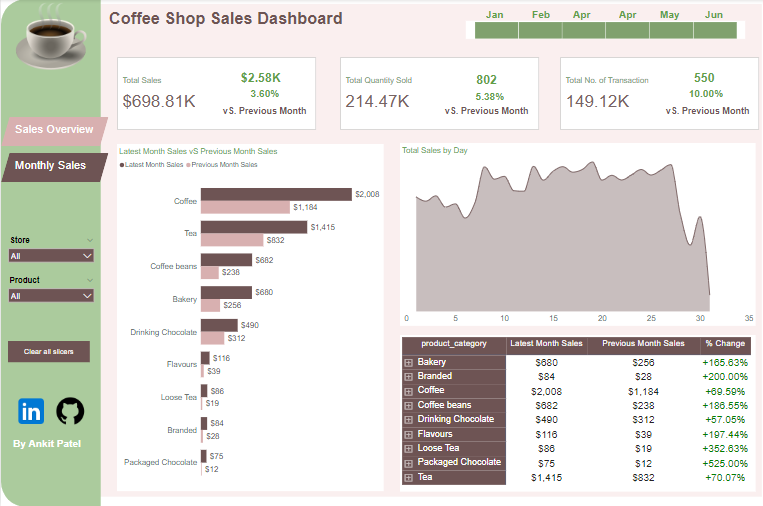

The page's visual inventory and layout, read from the dashboard file:
{"tool":"powerbi","page":{"name":"Page 2","canvas":[1800,1200],"ordinal":1},"visuals":[{"type":"shape","box":[53.4,12.6,1743.5,1163.9],"z":0},{"type":"shape","box":[0,0,235.6,1200],"z":1000},{"type":"image","box":[0,0,236.1,187.1],"z":2000},{"type":"cardVisual","fields":{"Data":["Measures Table.Total Sales"]},"box":[270.2,131.9,480.6,182.2],"z":3000},{"type":"cardVisual","fields":{"Data":["Measures Table.Total Quantity Sold"]},"box":[796.3,131.9,480.6,182.2],"z":4000},{"type":"slicer","fields":{"Values":["Calendar date.Month Name"]},"box":[1097.8,52.6,658.7,41.7],"z":5000},{"type":"actionButton","title":"Jan","box":[1146.8,23.6,76.2,29],"z":6000},{"type":"actionButton","title":"Feb","box":[1253.7,23,75.2,29.2],"z":7000},{"type":"actionButton","title":"Apr","box":[1351.9,23,75.2,29.2],"z":8000},{"type":"actionButton","title":"Jun","box":[1663.9,23.6,74.4,29],"z":9000},{"type":"actionButton","title":"May","box":[1556.9,23.6,74.4,29],"z":10000},{"type":"actionButton","title":"Apr","box":[1458.9,23.6,74.4,29],"z":11000},{"type":"image","box":[26.7,928.3,91.1,91.1],"z":12000},{"type":"image","box":[117.8,928.3,91.1,91.1],"z":13000},{"type":"actionButton","title":"By Ankit Patel","box":[27.2,1037.9,181.5,38.1],"z":14000},{"type":"shape","title":"Sales Overview","box":[0,279.4,254,69],"z":15000},{"type":"actionButton","title":"Sales Overview","box":[32.7,294,208.7,41.7],"z":16000},{"type":"shape","title":"Sales Overview","box":[0,362.9,254,69],"z":17000},{"type":"actionButton","title":"Monthly Sales","box":[32.7,377.4,208.7,41.7],"z":19000},{"type":"slicer","fields":{"Values":["Transactions.store_location"]},"box":[6.3,556,223,86.4],"z":21000},{"type":"slicer","fields":{"Values":["Transactions.product_category"]},"box":[6.3,650.3,223,86.4],"z":22000},{"type":"actionButton","box":[15.7,808.9,193.2,50.3],"z":23000},{"type":"cardVisual","fields":{"Data":["Measures Table.Total No. of Transaction"]},"box":[1316.2,131.9,480.6,182.2],"z":24000},{"type":"card","fields":{"Values":["Measures Table.% Previous Month Sales"]},"box":[551.6,205,141.5,34.5],"z":25000},{"type":"actionButton","title":"Coffee Shop Sales Dashboard","box":[254.7,24.6,649.1,55.2],"z":26000},{"type":"actionButton","title":"vS. Previous Month","box":[509.9,252.2,225,27.2],"z":27000},{"type":"card","fields":{"Values":["Measures Table.Previous Month Sales"]},"box":[510.5,166.5,207.3,39.3],"z":28000},{"type":"card","fields":{"Values":["Measures Table.% Previous Total Transaction"]},"box":[1611.5,205.8,108.4,34.6],"z":29000},{"type":"actionButton","title":"vS. Previous Month","box":[1556.5,252.9,224.6,26.7],"z":30000},{"type":"card","fields":{"Values":["Measures Table.Previous Transaction"]},"box":[1611.5,166.5,100.5,40.8],"z":31000},{"type":"actionButton","title":"vS. Previous Month","box":[1035,252.7,225,27.7],"z":32000},{"type":"card","fields":{"Values":["Measures Table.Previous QTY"]},"box":[1090.1,166.5,116.2,48.7],"z":33000},{"type":"card","fields":{"Values":["Measures Table.% Previous QTY"]},"box":[1103.2,206.9,103.4,45.4],"z":34000},{"type":"clusteredBarChart","title":"Latest Month Sales vS Previous Month Sales","fields":{"Category":["Transactions.product_category"],"Y":["Measures Table.Latest Month Sales","Measures Table.Previous Month Sales"]},"box":[274,342.9,629.6,820.2],"z":35000},{"type":"areaChart","fields":{"Category":["Calendar date.Day"],"Y":["Measures Table.Total Sales"]},"box":[941.7,341.1,840.1,431.9],"z":36000},{"type":"pivotTable","fields":{"Rows":["Transactions.product_category","Transactions.product_type"],"Values":["Measures Table.Latest Month Sales","Measures Table.Previous Month Sales","Measures Table.% Change"]},"box":[941.7,792.9,840.1,370.2],"z":37000}]}

Visuals, with their boxes in screenshot pixels (x1, y1, x2, y2), scaled from the page's 1800x1200 canvas onto the 763x506 screenshot:
shape: [x1=23, y1=5, x2=762, y2=496]
shape: [x1=0, y1=0, x2=100, y2=505]
image: [x1=0, y1=0, x2=100, y2=79]
cardVisual - Measures Table.Total Sales: [x1=115, y1=56, x2=318, y2=132]
cardVisual - Measures Table.Total Quantity Sold: [x1=338, y1=56, x2=541, y2=132]
slicer - Calendar date.Month Name: [x1=465, y1=22, x2=745, y2=40]
"Jan" actionButton: [x1=486, y1=10, x2=518, y2=22]
"Feb" actionButton: [x1=531, y1=10, x2=563, y2=22]
"Apr" actionButton: [x1=573, y1=10, x2=605, y2=22]
"Jun" actionButton: [x1=705, y1=10, x2=737, y2=22]
"May" actionButton: [x1=660, y1=10, x2=691, y2=22]
"Apr" actionButton: [x1=618, y1=10, x2=650, y2=22]
image: [x1=11, y1=391, x2=50, y2=430]
image: [x1=50, y1=391, x2=89, y2=430]
"By Ankit Patel" actionButton: [x1=12, y1=438, x2=88, y2=454]
"Sales Overview" shape: [x1=0, y1=118, x2=108, y2=147]
"Sales Overview" actionButton: [x1=14, y1=124, x2=102, y2=142]
"Sales Overview" shape: [x1=0, y1=153, x2=108, y2=182]
"Monthly Sales" actionButton: [x1=14, y1=159, x2=102, y2=177]
slicer - Transactions.store_location: [x1=3, y1=234, x2=97, y2=271]
slicer - Transactions.product_category: [x1=3, y1=274, x2=97, y2=311]
actionButton: [x1=7, y1=341, x2=89, y2=362]
cardVisual - Measures Table.Total No. of Transaction: [x1=558, y1=56, x2=762, y2=132]
card - Measures Table.% Previous Month Sales: [x1=234, y1=86, x2=294, y2=101]
"Coffee Shop Sales Dashboard" actionButton: [x1=108, y1=10, x2=383, y2=34]
"vS. Previous Month" actionButton: [x1=216, y1=106, x2=312, y2=118]
card - Measures Table.Previous Month Sales: [x1=216, y1=70, x2=304, y2=87]
card - Measures Table.% Previous Total Transaction: [x1=683, y1=87, x2=729, y2=101]
"vS. Previous Month" actionButton: [x1=660, y1=107, x2=755, y2=118]
card - Measures Table.Previous Transaction: [x1=683, y1=70, x2=726, y2=87]
"vS. Previous Month" actionButton: [x1=439, y1=107, x2=534, y2=118]
card - Measures Table.Previous QTY: [x1=462, y1=70, x2=511, y2=91]
card - Measures Table.% Previous QTY: [x1=468, y1=87, x2=511, y2=106]
"Latest Month Sales vS Previous Month Sales" clusteredBarChart: [x1=116, y1=145, x2=383, y2=490]
areaChart - Calendar date.Day x Measures Table.Total Sales: [x1=399, y1=144, x2=755, y2=326]
pivotTable - Transactions.product_category x Transactions.product_type: [x1=399, y1=334, x2=755, y2=490]
